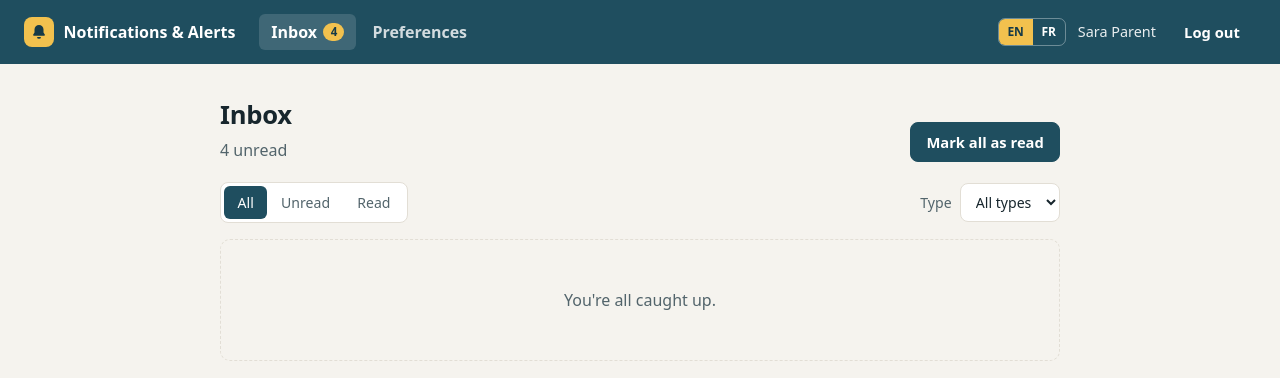
Test: Layout › saves the language on the account when switching
Expected: the heading "Inbox" is shown, [220,96,292,134]
Click the button "FR" at {"x": 1049, "y": 32}, box [1033,19,1065,45]
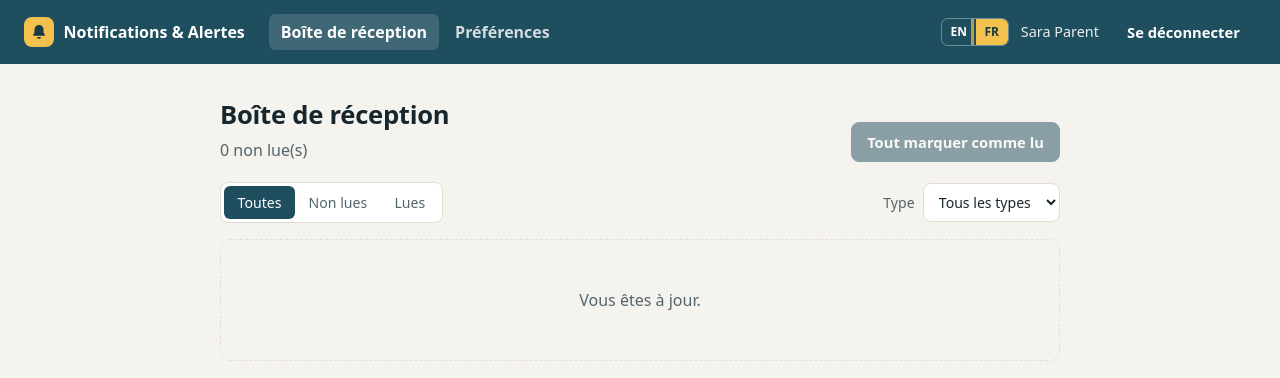
Expected: the heading "Boîte de réception" is shown, [220,96,449,134]
